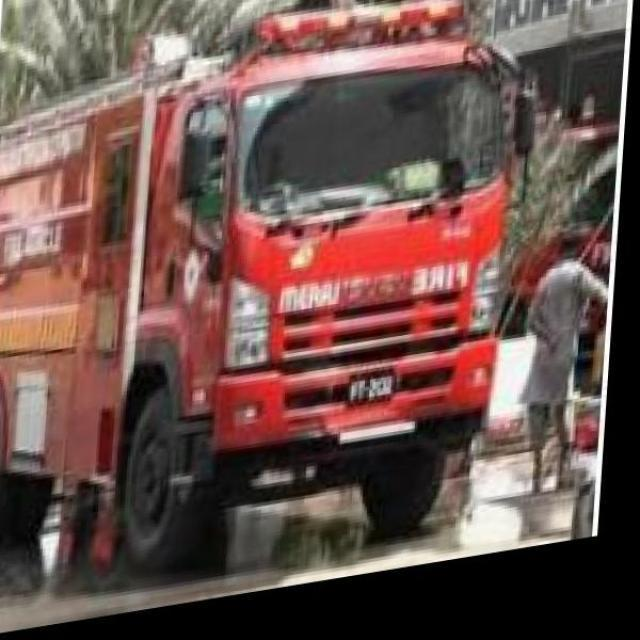emergency: (1, 0, 528, 584)
